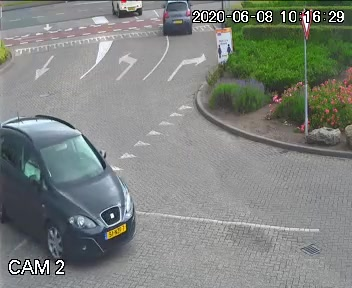car: (0, 104, 140, 269), (155, 0, 199, 40), (103, 0, 145, 21)
